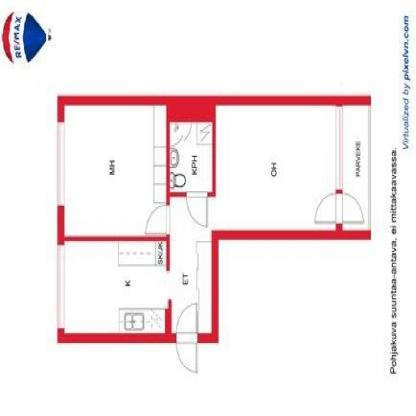door: (175, 302, 203, 376), (314, 193, 365, 228), (184, 191, 209, 231), (144, 205, 170, 237)
window: (58, 244, 66, 328), (337, 107, 343, 192), (59, 122, 65, 204)
zone: (65, 105, 337, 332), (65, 105, 167, 234), (170, 122, 212, 192)
